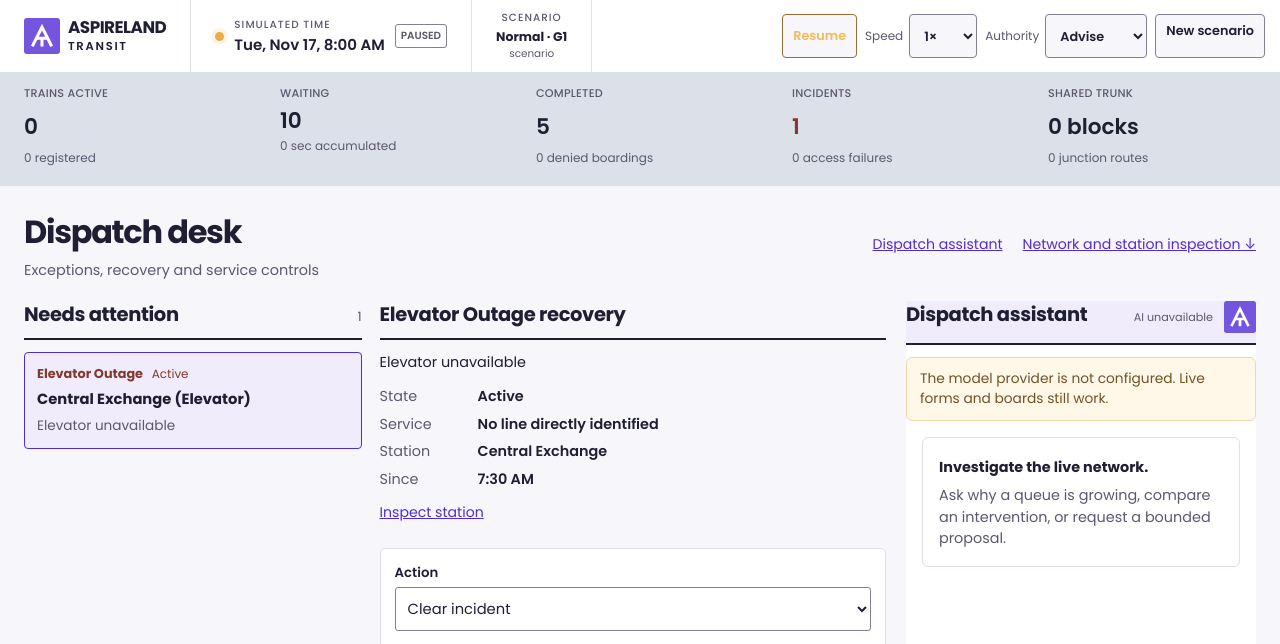
Test: exposes active incident context and clears the selected incident from the dispatch desk
Click the button that starts with "Elevator Outage": point(193, 401) [24,352,362,449]
(page scrolled)
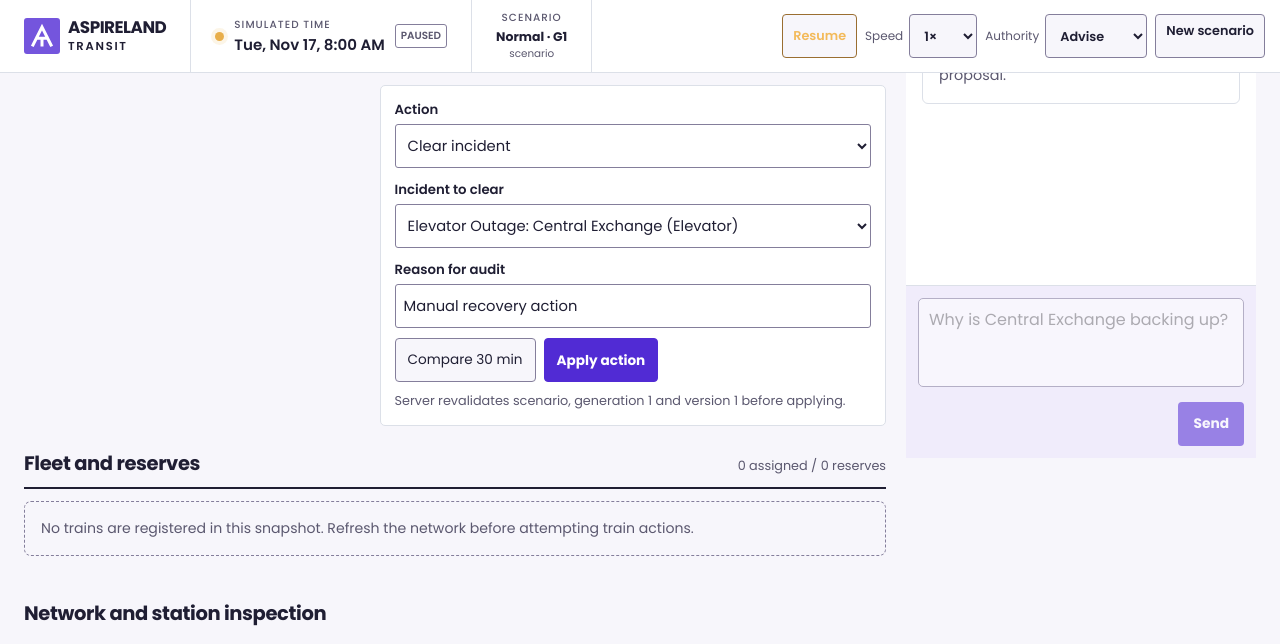
expect the dropdown labelled "Action" shows "Clear incident": met, box [395,124,871,168]
expect the dropdown labelled "Incident to clear" shows "Elevator Outage: Central Exchange (Elevator)": met, box [395,204,871,248]
Click the button "Apply action": point(601, 360) [544,338,658,382]
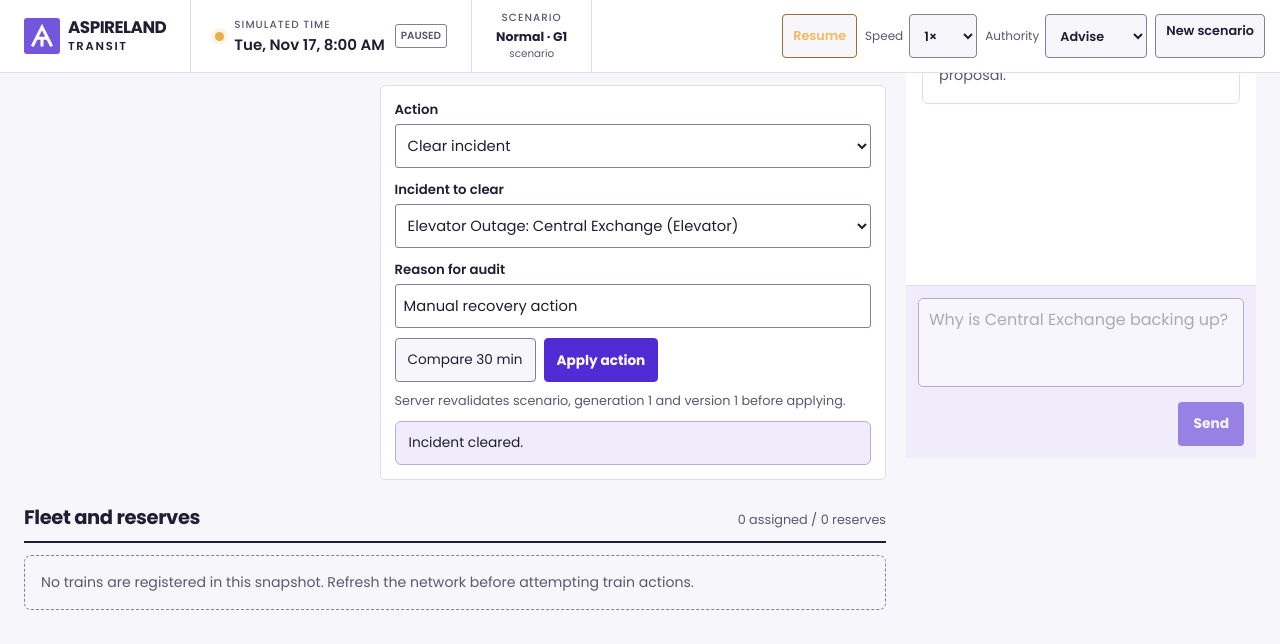
expect the message reads "Incident cleared.": met, box [409,433,523,452]
